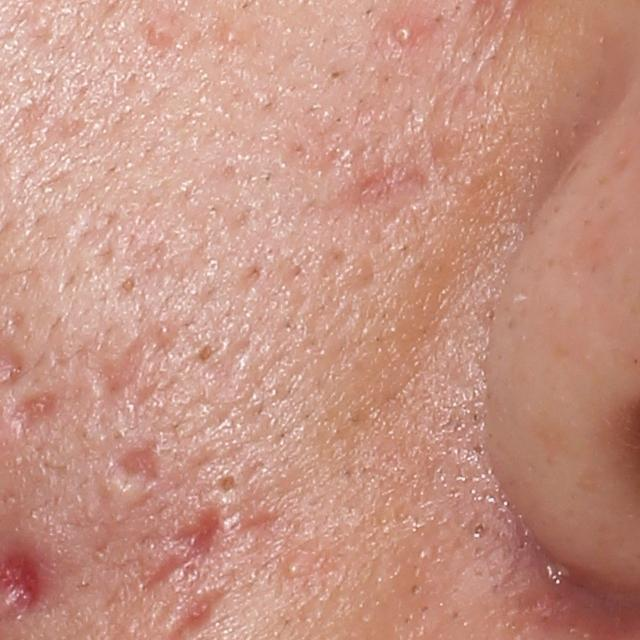atrophic_scar: (323, 156, 442, 227), (97, 340, 146, 403), (6, 392, 65, 439), (6, 94, 55, 149), (113, 444, 167, 493), (168, 508, 221, 554), (141, 551, 199, 588), (0, 349, 25, 385)
comedo: (217, 473, 248, 495), (119, 272, 141, 293), (219, 28, 241, 46), (283, 561, 305, 576), (469, 519, 487, 537), (327, 66, 343, 83)
pustule: (393, 22, 414, 43)
